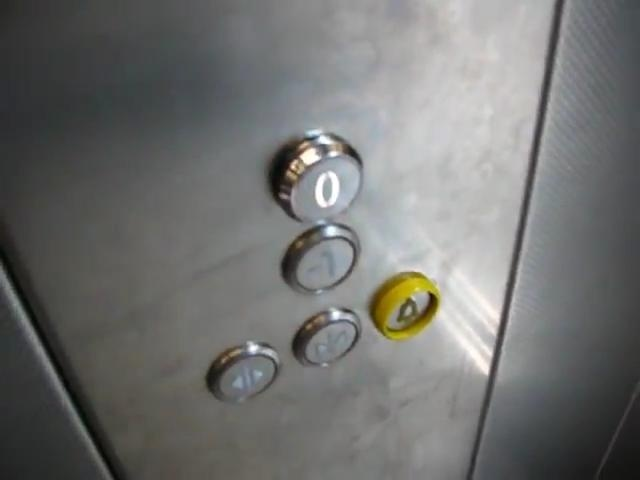-1: (280, 221, 362, 296)
0: (267, 128, 365, 226)
alarm: (368, 269, 441, 340)
close: (289, 304, 363, 370)
open: (204, 339, 283, 406)
